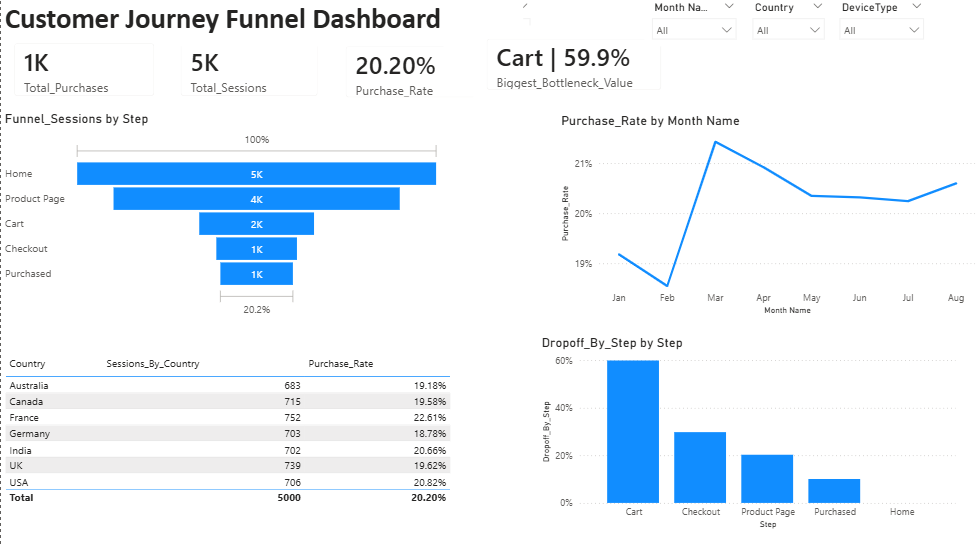

This screenshot's page, from the dashboard's own definition file:
{"tool":"powerbi","page":{"name":"funnel overview","canvas":[1280,720],"ordinal":0},"visuals":[{"type":"cardVisual","fields":{"Data":["key_measures.Total_Sessions"]},"box":[217.6,43.1,213.7,103.9],"z":0},{"type":"cardVisual","fields":{"Data":["key_measures.Purchase_Rate"]},"box":[433.3,47.1,205.9,102],"z":1000},{"type":"slicer","fields":{"Values":["Sessions.Country"]},"box":[578.1,0,123.1,71.2],"z":2000},{"type":"textbox","box":[0,0,682.4,64.7],"z":3000},{"type":"cardVisual","title":"Biggest Dropoff","fields":{"Data":["key_measures.Total_Purchases"]},"box":[0,43.1,217.6,103.9],"z":4000},{"type":"funnel","fields":{"Y":["key_measures.Funnel_Sessions"],"Category":["FunnelSteps.Step"]},"box":[0,149,578.4,274.5],"z":5000},{"type":"lineChart","fields":{"Y":["key_measures.Purchase_Rate"],"Category":["dim_calendar.Month Name"]},"box":[727.5,151,551,268.6],"z":6000},{"type":"columnChart","fields":{"Y":["key_measures.Dropoff_By_Step"],"Category":["FunnelSteps.Step"]},"box":[702,441.2,551,258.8],"z":7000},{"type":"tableEx","fields":{"Values":["Sessions.Country","key_measures.Sessions_By_Country","key_measures.Purchase_Rate"]},"box":[0,462.7,602,237.3],"z":8000},{"type":"cardVisual","title":"Biggest Dropoff","fields":{"Data":["key_measures.Biggest_Bottleneck_Short"]},"box":[617.6,37.3,262.7,102],"z":9000},{"type":"slicer","fields":{"Values":["Sessions.DeviceType"]},"box":[1086.4,0,129.9,64.9],"z":10000},{"type":"slicer","fields":{"Values":["Sessions.Country"]},"box":[972.3,0,114.1,73.7],"z":11000},{"type":"slicer","fields":{"Values":["dim_calendar.Month Name"]},"box":[840.7,0,129.9,64.9],"z":12000}]}

Visuals, with their boxes in screenshot pixels (x1, y1, x2, y2), scaled from the page's 1280x720 canvas onto the 979x545 screenshot:
cardVisual - key_measures.Total_Sessions: {"left": 166, "top": 33, "right": 330, "bottom": 111}
cardVisual - key_measures.Purchase_Rate: {"left": 331, "top": 36, "right": 489, "bottom": 113}
slicer - Sessions.Country: {"left": 442, "top": 0, "right": 536, "bottom": 54}
textbox: {"left": 0, "top": 0, "right": 522, "bottom": 49}
"Biggest Dropoff" cardVisual: {"left": 0, "top": 33, "right": 166, "bottom": 111}
funnel - key_measures.Funnel_Sessions x FunnelSteps.Step: {"left": 0, "top": 113, "right": 442, "bottom": 321}
lineChart - key_measures.Purchase_Rate x dim_calendar.Month Name: {"left": 556, "top": 114, "right": 978, "bottom": 318}
columnChart - key_measures.Dropoff_By_Step x FunnelSteps.Step: {"left": 537, "top": 334, "right": 958, "bottom": 530}
tableEx - Sessions.Country x key_measures.Sessions_By_Country: {"left": 0, "top": 350, "right": 460, "bottom": 530}
"Biggest Dropoff" cardVisual: {"left": 472, "top": 28, "right": 673, "bottom": 105}
slicer - Sessions.DeviceType: {"left": 831, "top": 0, "right": 930, "bottom": 49}
slicer - Sessions.Country: {"left": 744, "top": 0, "right": 831, "bottom": 56}
slicer - dim_calendar.Month Name: {"left": 643, "top": 0, "right": 742, "bottom": 49}
